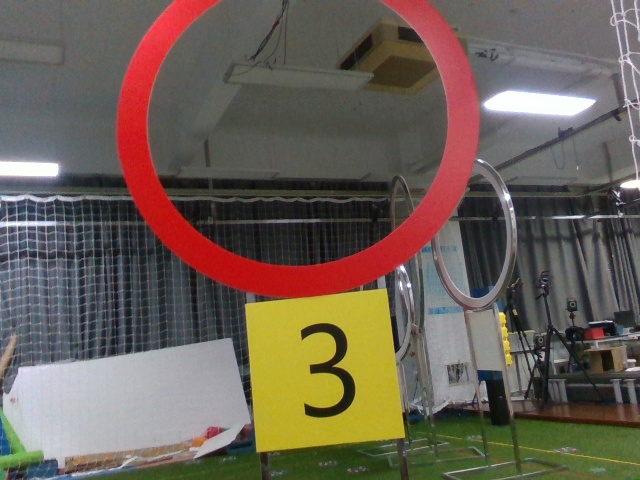target: (249, 298, 396, 433)
